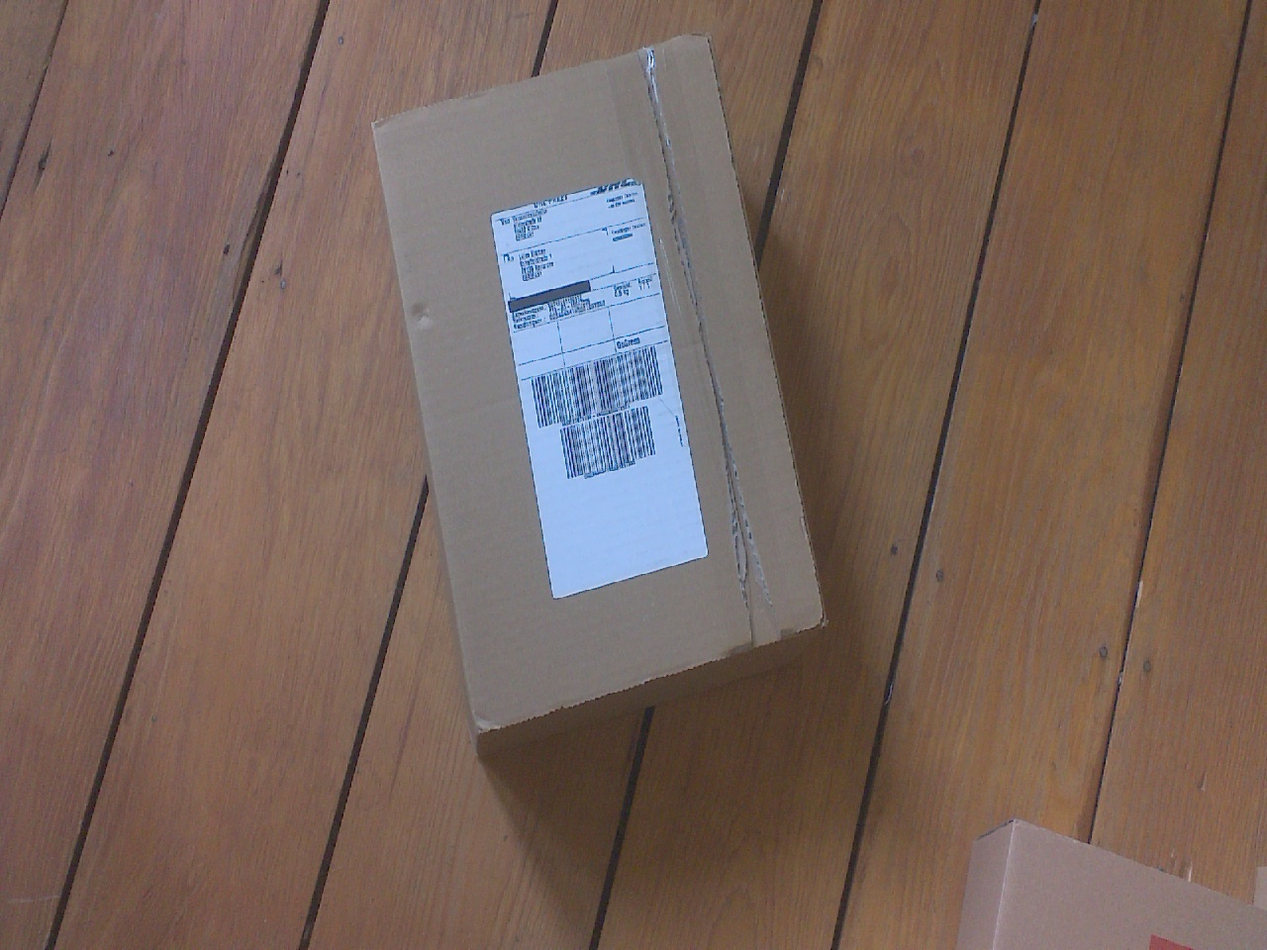good-parcel: (357, 30, 853, 751)
